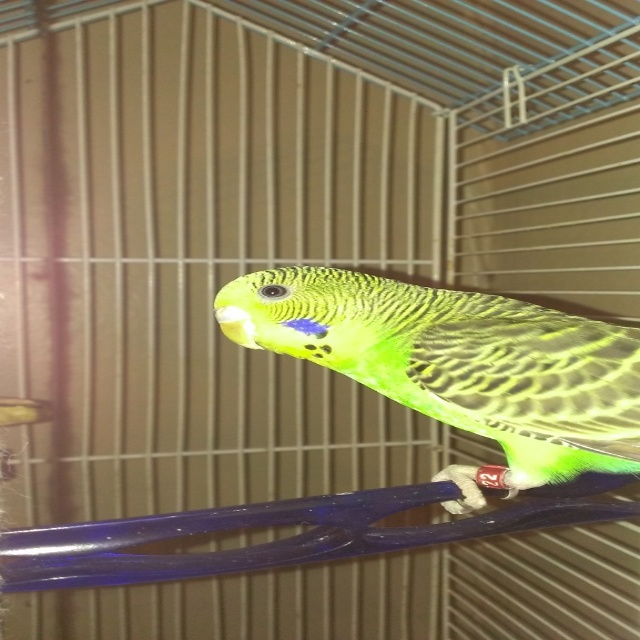Parrot: (199, 259, 639, 514)
